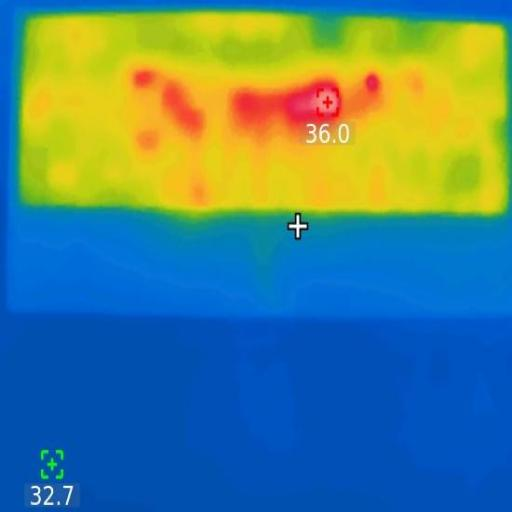hotspot: (296, 87, 340, 125), (238, 90, 292, 118), (366, 76, 380, 90)
